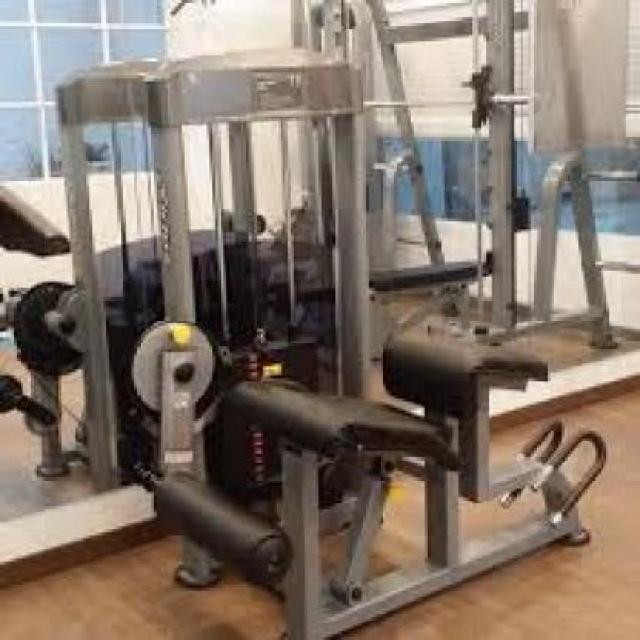leg extension: (101, 0, 614, 640)
